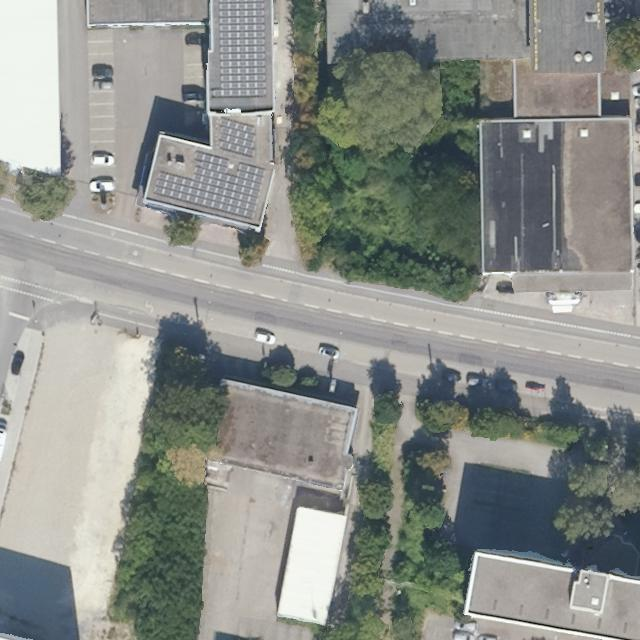PV: (151, 149, 269, 222), (209, 0, 271, 109), (218, 116, 257, 160)
